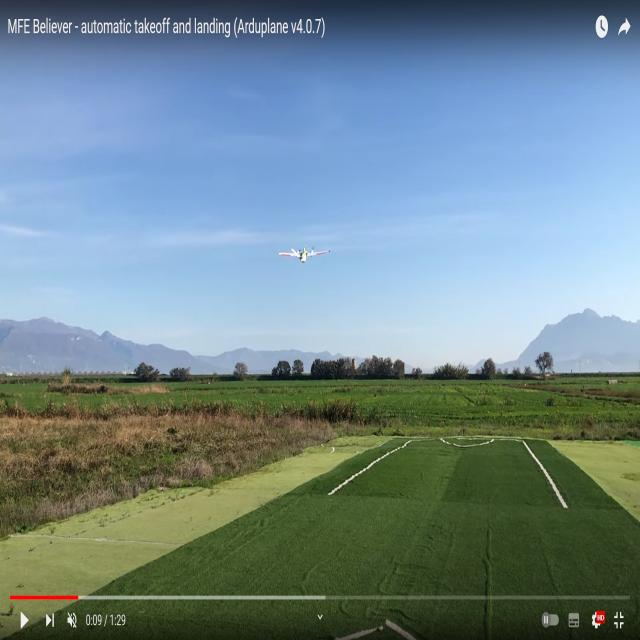iha: (273, 243, 333, 264)
